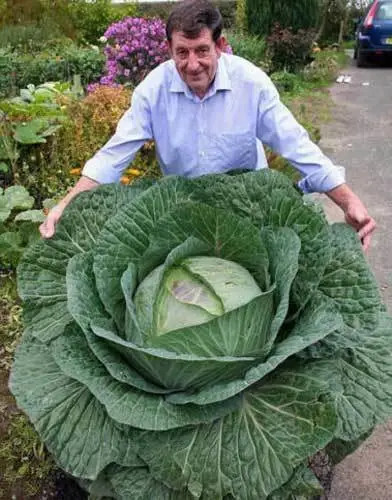cabbage: (67, 198, 335, 460)
